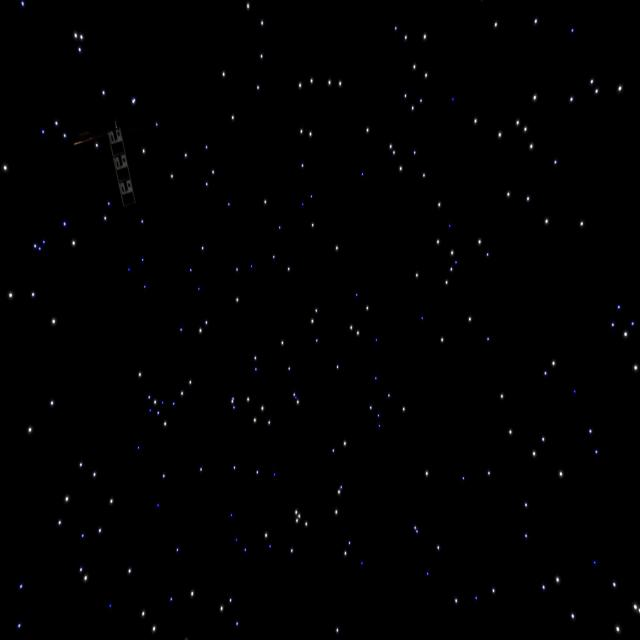medium_debris: (64, 103, 162, 207)
